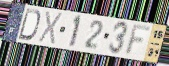1: (67, 15, 82, 49)
2: (83, 19, 106, 51)
3: (107, 20, 129, 58)
D: (17, 8, 42, 42)
F: (123, 23, 153, 57)
X: (37, 10, 64, 47)
